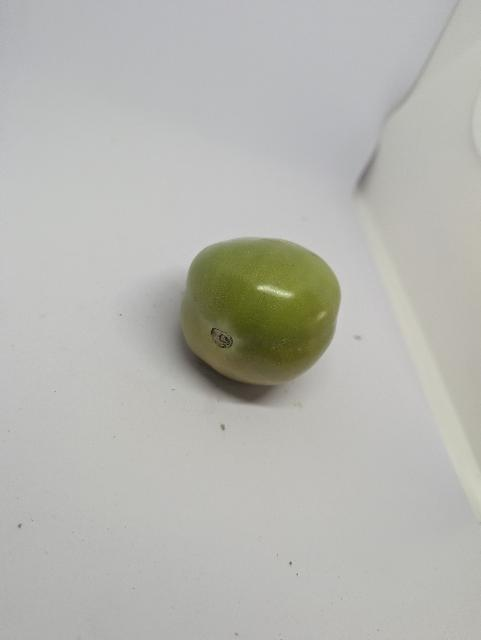green: (180, 236, 345, 388)
